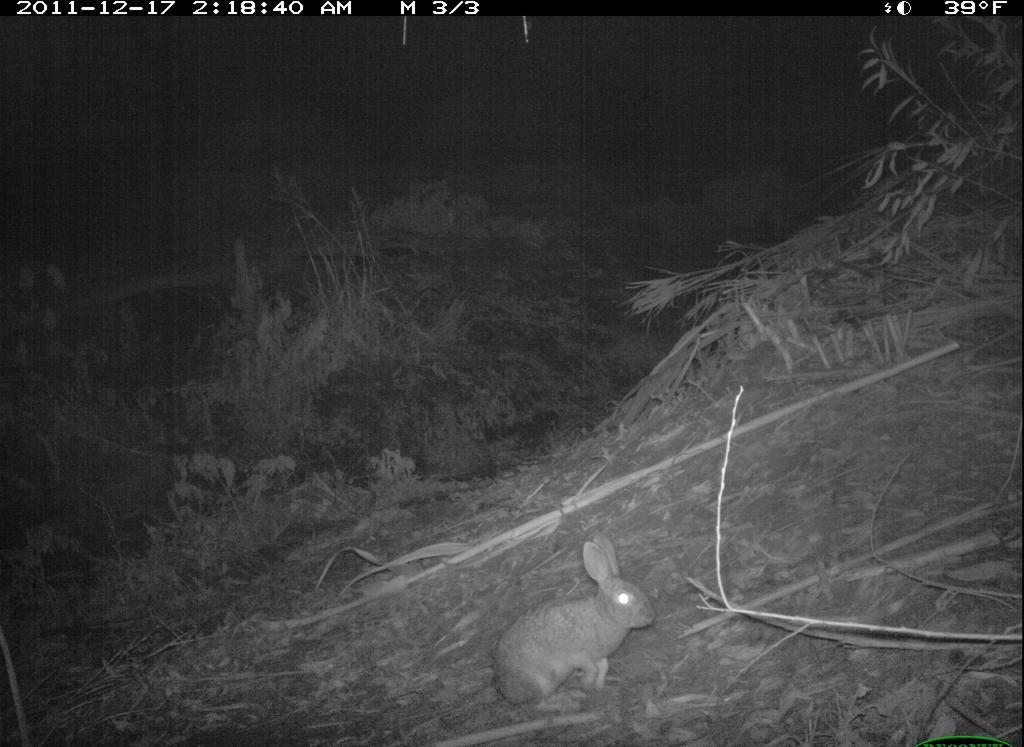rabbit: (487, 527, 661, 717)
